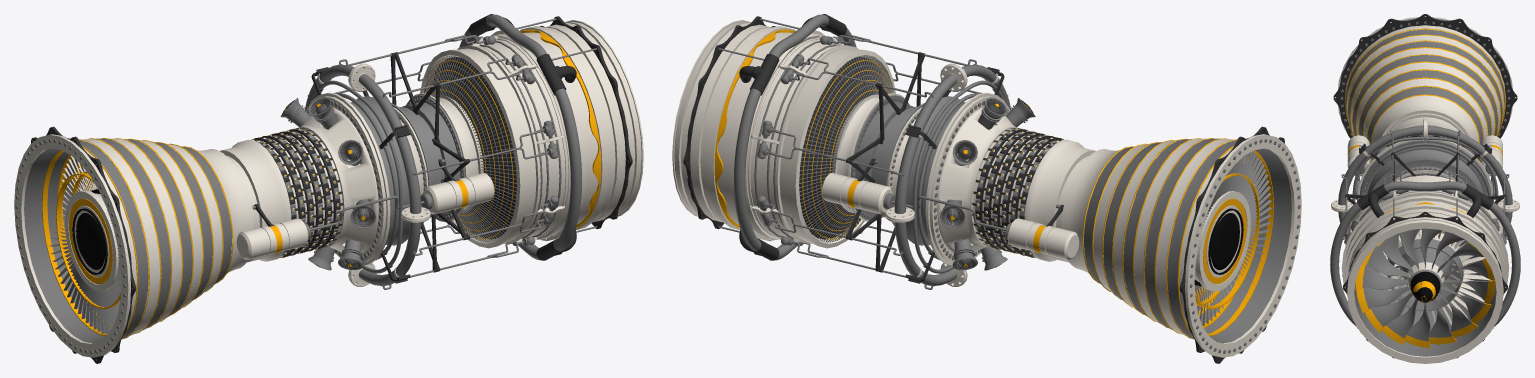
The model's file is turbine.gltf.
3 views of the same model, side by side, from view 1: azimuth 30°, elevation 25°; view 2: azimuth 150°, elevation 25°; view 3: azimuth 270°, elevation 25° (orthographic). The views are drawn at different scales.
Parts seen in each view (by area): view 1: Object_9, Object_18, Object_17, Object_12, Object_5, Object_4, Object_16, Object_8, Object_13, Object_15, Object_3, Object_2 (+6 smaller); view 2: Object_9, Object_18, Object_17, Object_12, Object_5, Object_4, Object_16, Object_8, Object_13, Object_15, Object_3, Object_2 (+5 smaller); view 3: Object_9, Object_18, Object_17, Object_15, Object_5, Object_12, Object_4, Object_8, Object_2, Object_3, Object_20, Object_14.
Part boxes in pixels (x1,y1,x2,y2): Object_9: (14, 20, 643, 357); Object_18: (24, 97, 463, 343); Object_17: (304, 14, 581, 289); Object_12: (31, 14, 632, 363); Object_5: (42, 29, 601, 338); Object_4: (349, 95, 483, 247); Object_16: (252, 18, 597, 242); Object_8: (60, 147, 494, 323); Object_13: (252, 128, 343, 257); Object_15: (49, 210, 136, 334); Object_3: (72, 187, 127, 274); Object_2: (317, 36, 564, 286); Object_9: (672, 20, 1301, 357); Object_18: (849, 97, 1291, 343); Object_17: (734, 14, 1011, 289); Object_12: (683, 14, 1284, 363); Object_5: (714, 29, 1273, 339); Object_4: (834, 95, 965, 247); Object_16: (718, 18, 1060, 242); Object_8: (821, 146, 1254, 326); Object_13: (972, 128, 1063, 257); Object_15: (1201, 151, 1271, 285); Object_3: (1167, 208, 1243, 286); Object_2: (751, 36, 998, 286); Object_9: (1338, 16, 1512, 363); Object_18: (1345, 29, 1505, 356); Object_17: (1330, 126, 1520, 326); Object_15: (1362, 228, 1488, 341); Object_5: (1344, 28, 1506, 348); Object_12: (1333, 14, 1517, 358); Object_4: (1359, 140, 1491, 311); Object_8: (1347, 54, 1502, 326); Object_2: (1331, 119, 1519, 233); Object_3: (1410, 87, 1440, 302); Object_20: (1340, 21, 1510, 196); Object_14: (1344, 190, 1506, 244).
Bounding box in the file's own units: 4.01 × 1.57 × 1.59.
